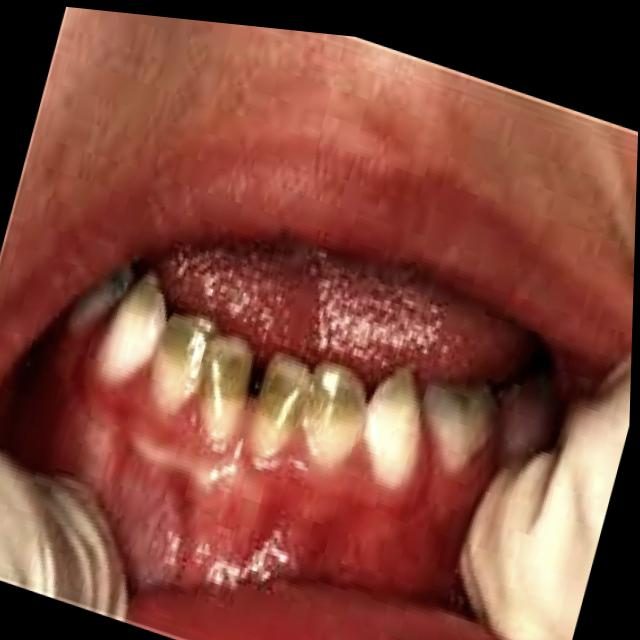tooth-discoloration: (257, 352, 312, 426), (203, 334, 256, 402), (311, 362, 365, 422), (117, 271, 167, 334), (161, 313, 215, 368)
